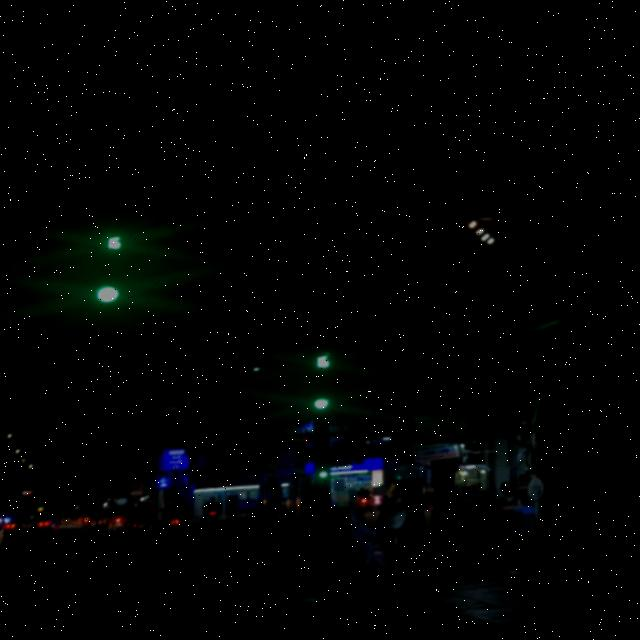Green: (93, 252, 136, 309), (307, 368, 355, 419), (316, 448, 352, 486)
